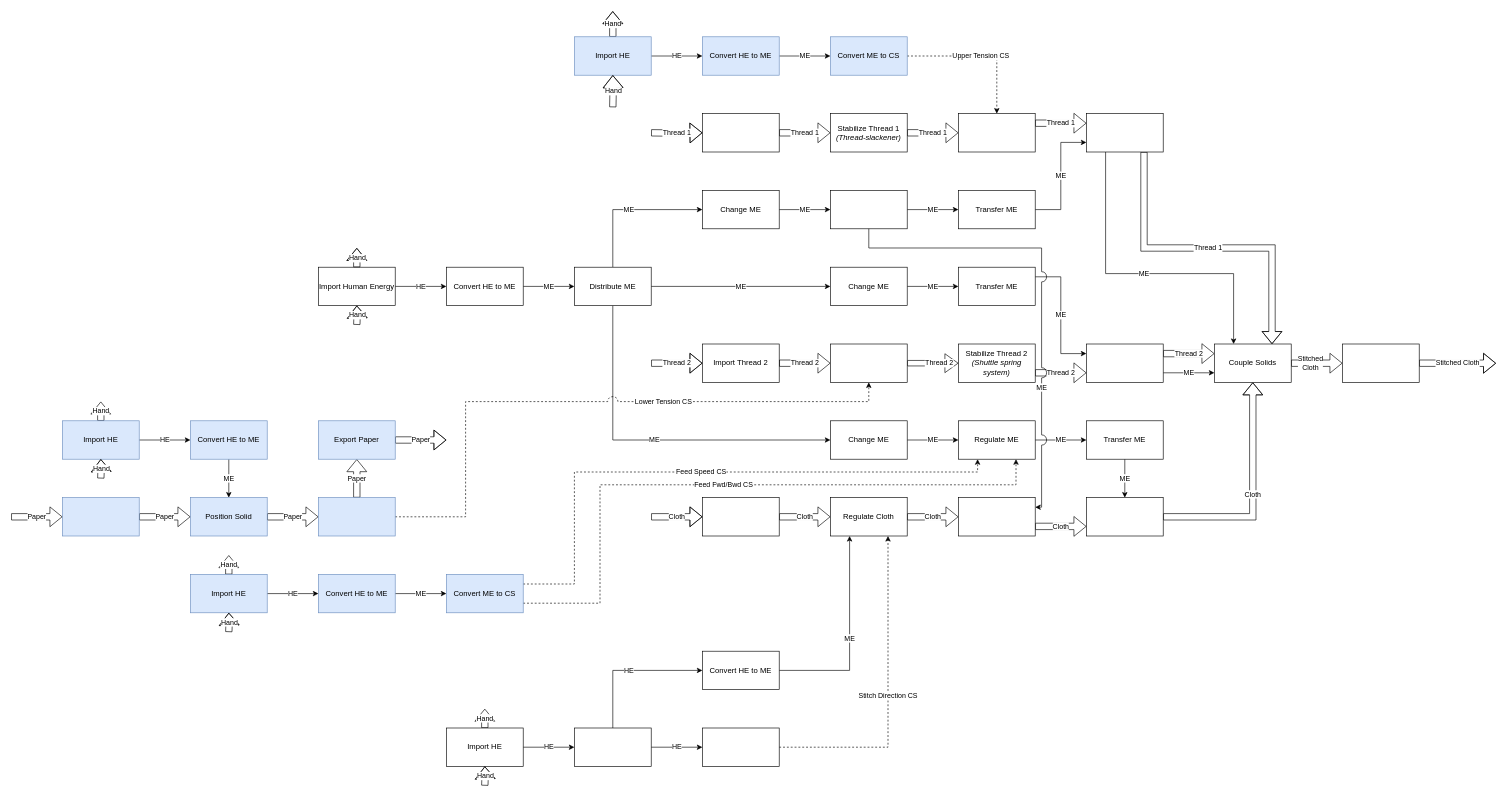
Some shapes in this 1507 by 797 pixel diagram are drawn without their labels. The shapes that lost their labels are listed below. From the top down, each one's centre as x and y in pixels, then its label:
At (x=740, y=132): "Import Thread 1".
At (x=996, y=132): "Regulate Thread 1 (tensioning system)".
At (x=1124, y=132): "Guide Thread 1 (Needle arm and takeup lever)".
At (x=868, y=209): "Distribute ME (presser-foot attached to needle bar secures cloth)".
At (x=868, y=362): "Regulate Thread 2 (placing paper in the bobbin holder spring)".
At (x=1124, y=362): "Guide Thread 2".
At (x=1380, y=362): "Export Stitched Cloth".
At (x=100, y=516): "Import Paper".
At (x=356, y=516): "Convert Solid to CS".
At (x=740, y=516): "Import Cloth".
At (x=996, y=516): "Secure Cloth".
At (x=1124, y=516): "Guide Cloth".
At (x=612, y=746): "Distribute HE".
At (x=740, y=746): "Convert HE to CS".
